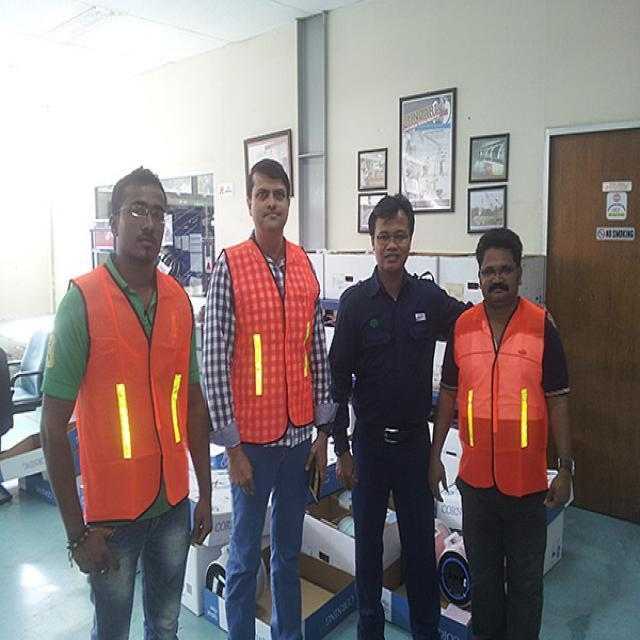No_Goggles: (251, 186, 289, 202)
No_Helmet: (118, 163, 170, 200), (478, 223, 523, 260), (372, 192, 417, 220), (245, 158, 290, 182)
